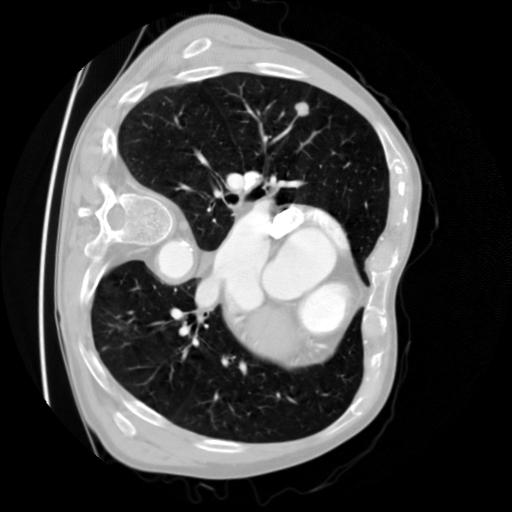nodule: (293, 98, 315, 120)
